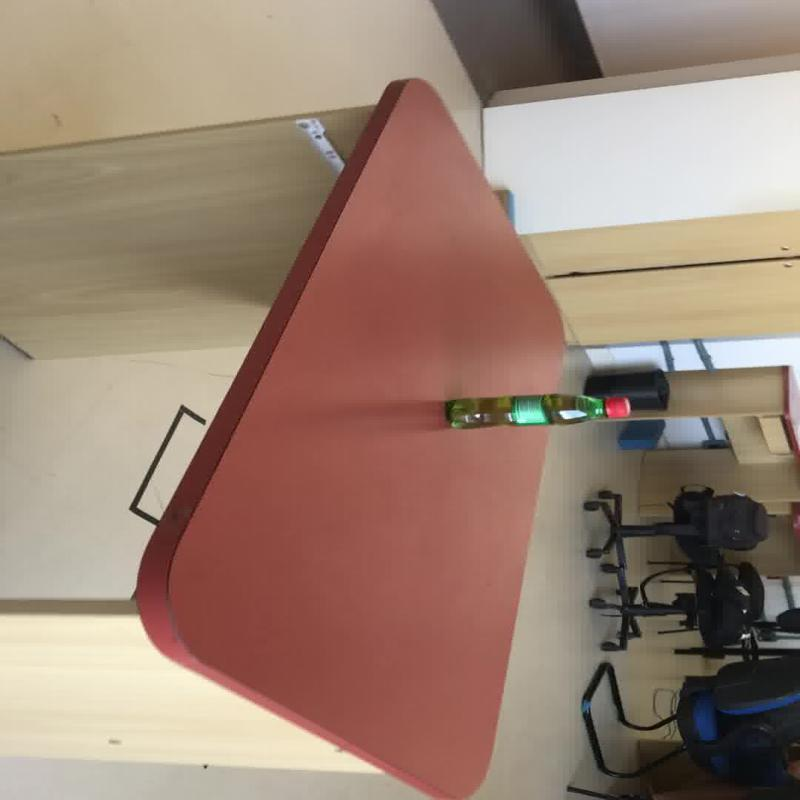guarana: (130, 76, 580, 796), (442, 392, 631, 429)
